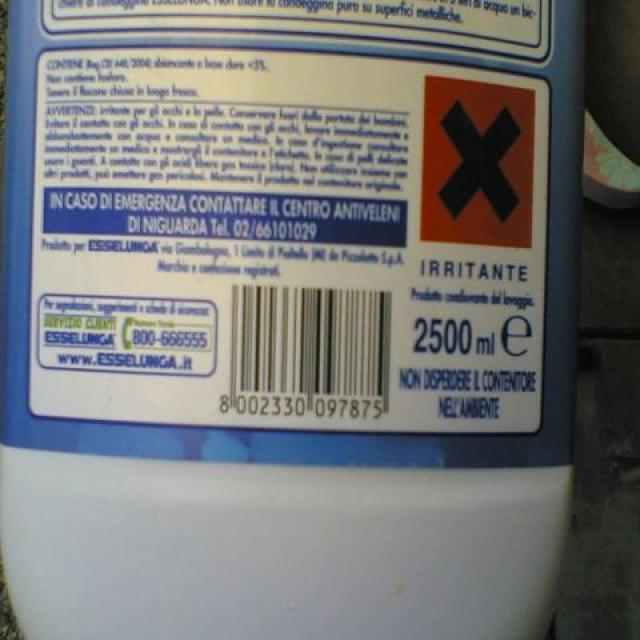Barcode: (217, 279, 396, 432)
